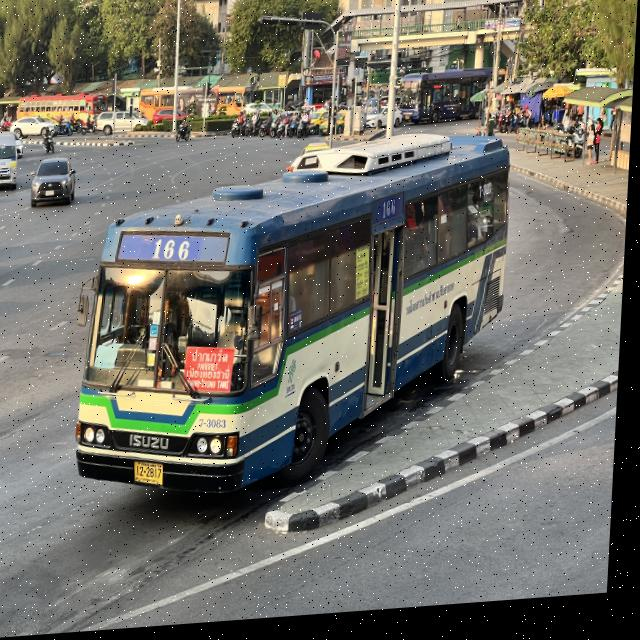BMTA-bus: (78, 139, 513, 500)
Bus Line Number: (148, 231, 204, 269)
Bus Side Number: (201, 414, 235, 435)
Destination Sign: (186, 343, 239, 405)
